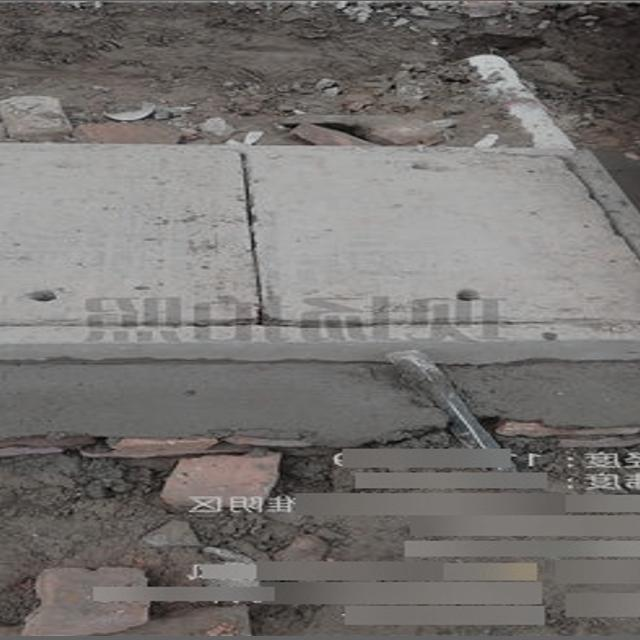good: (0, 140, 640, 359)
